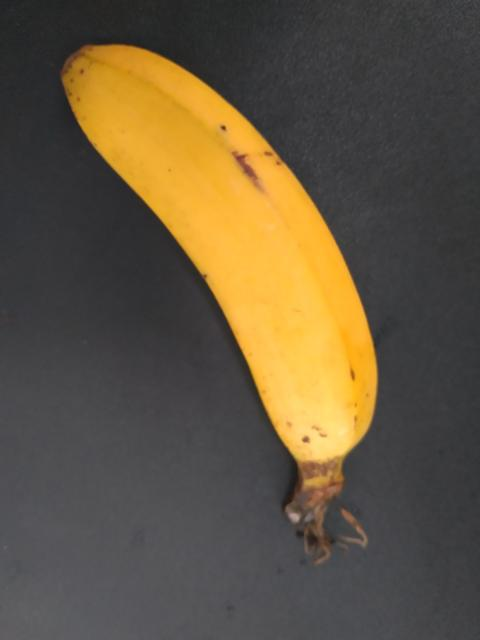freshripe: (58, 28, 401, 491)
